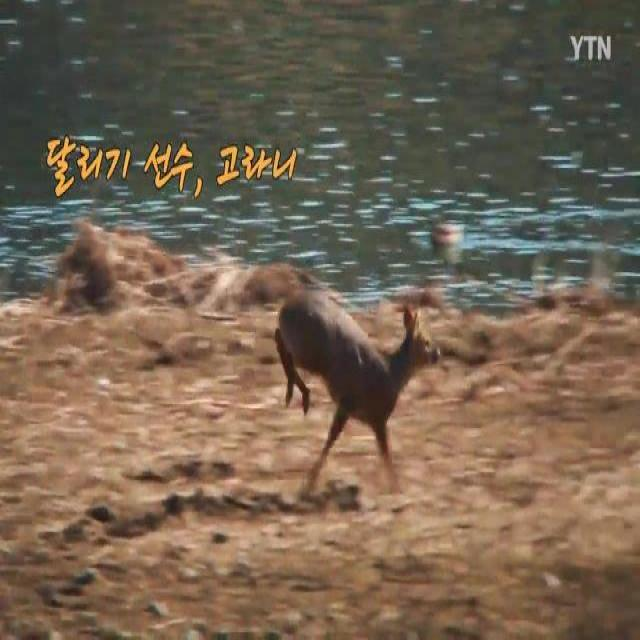deer: (272, 290, 444, 483)
